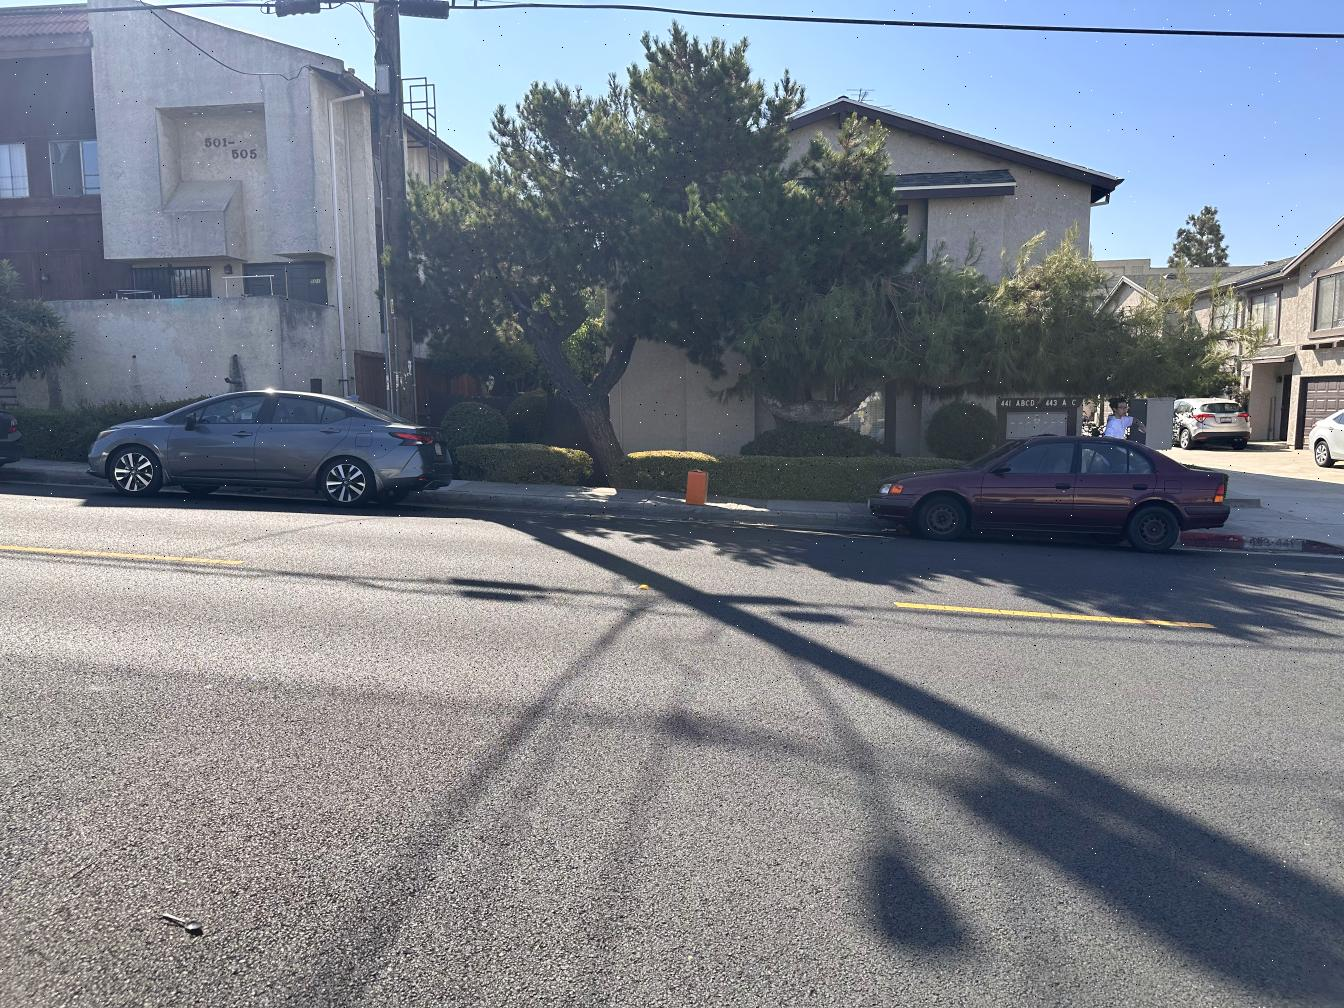curbs-laRr: (421, 491, 677, 518), (680, 507, 872, 530)
orange box: (684, 466, 711, 506)
